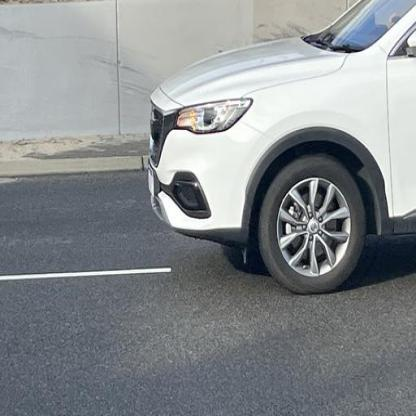Tire: (258, 156, 366, 295)
